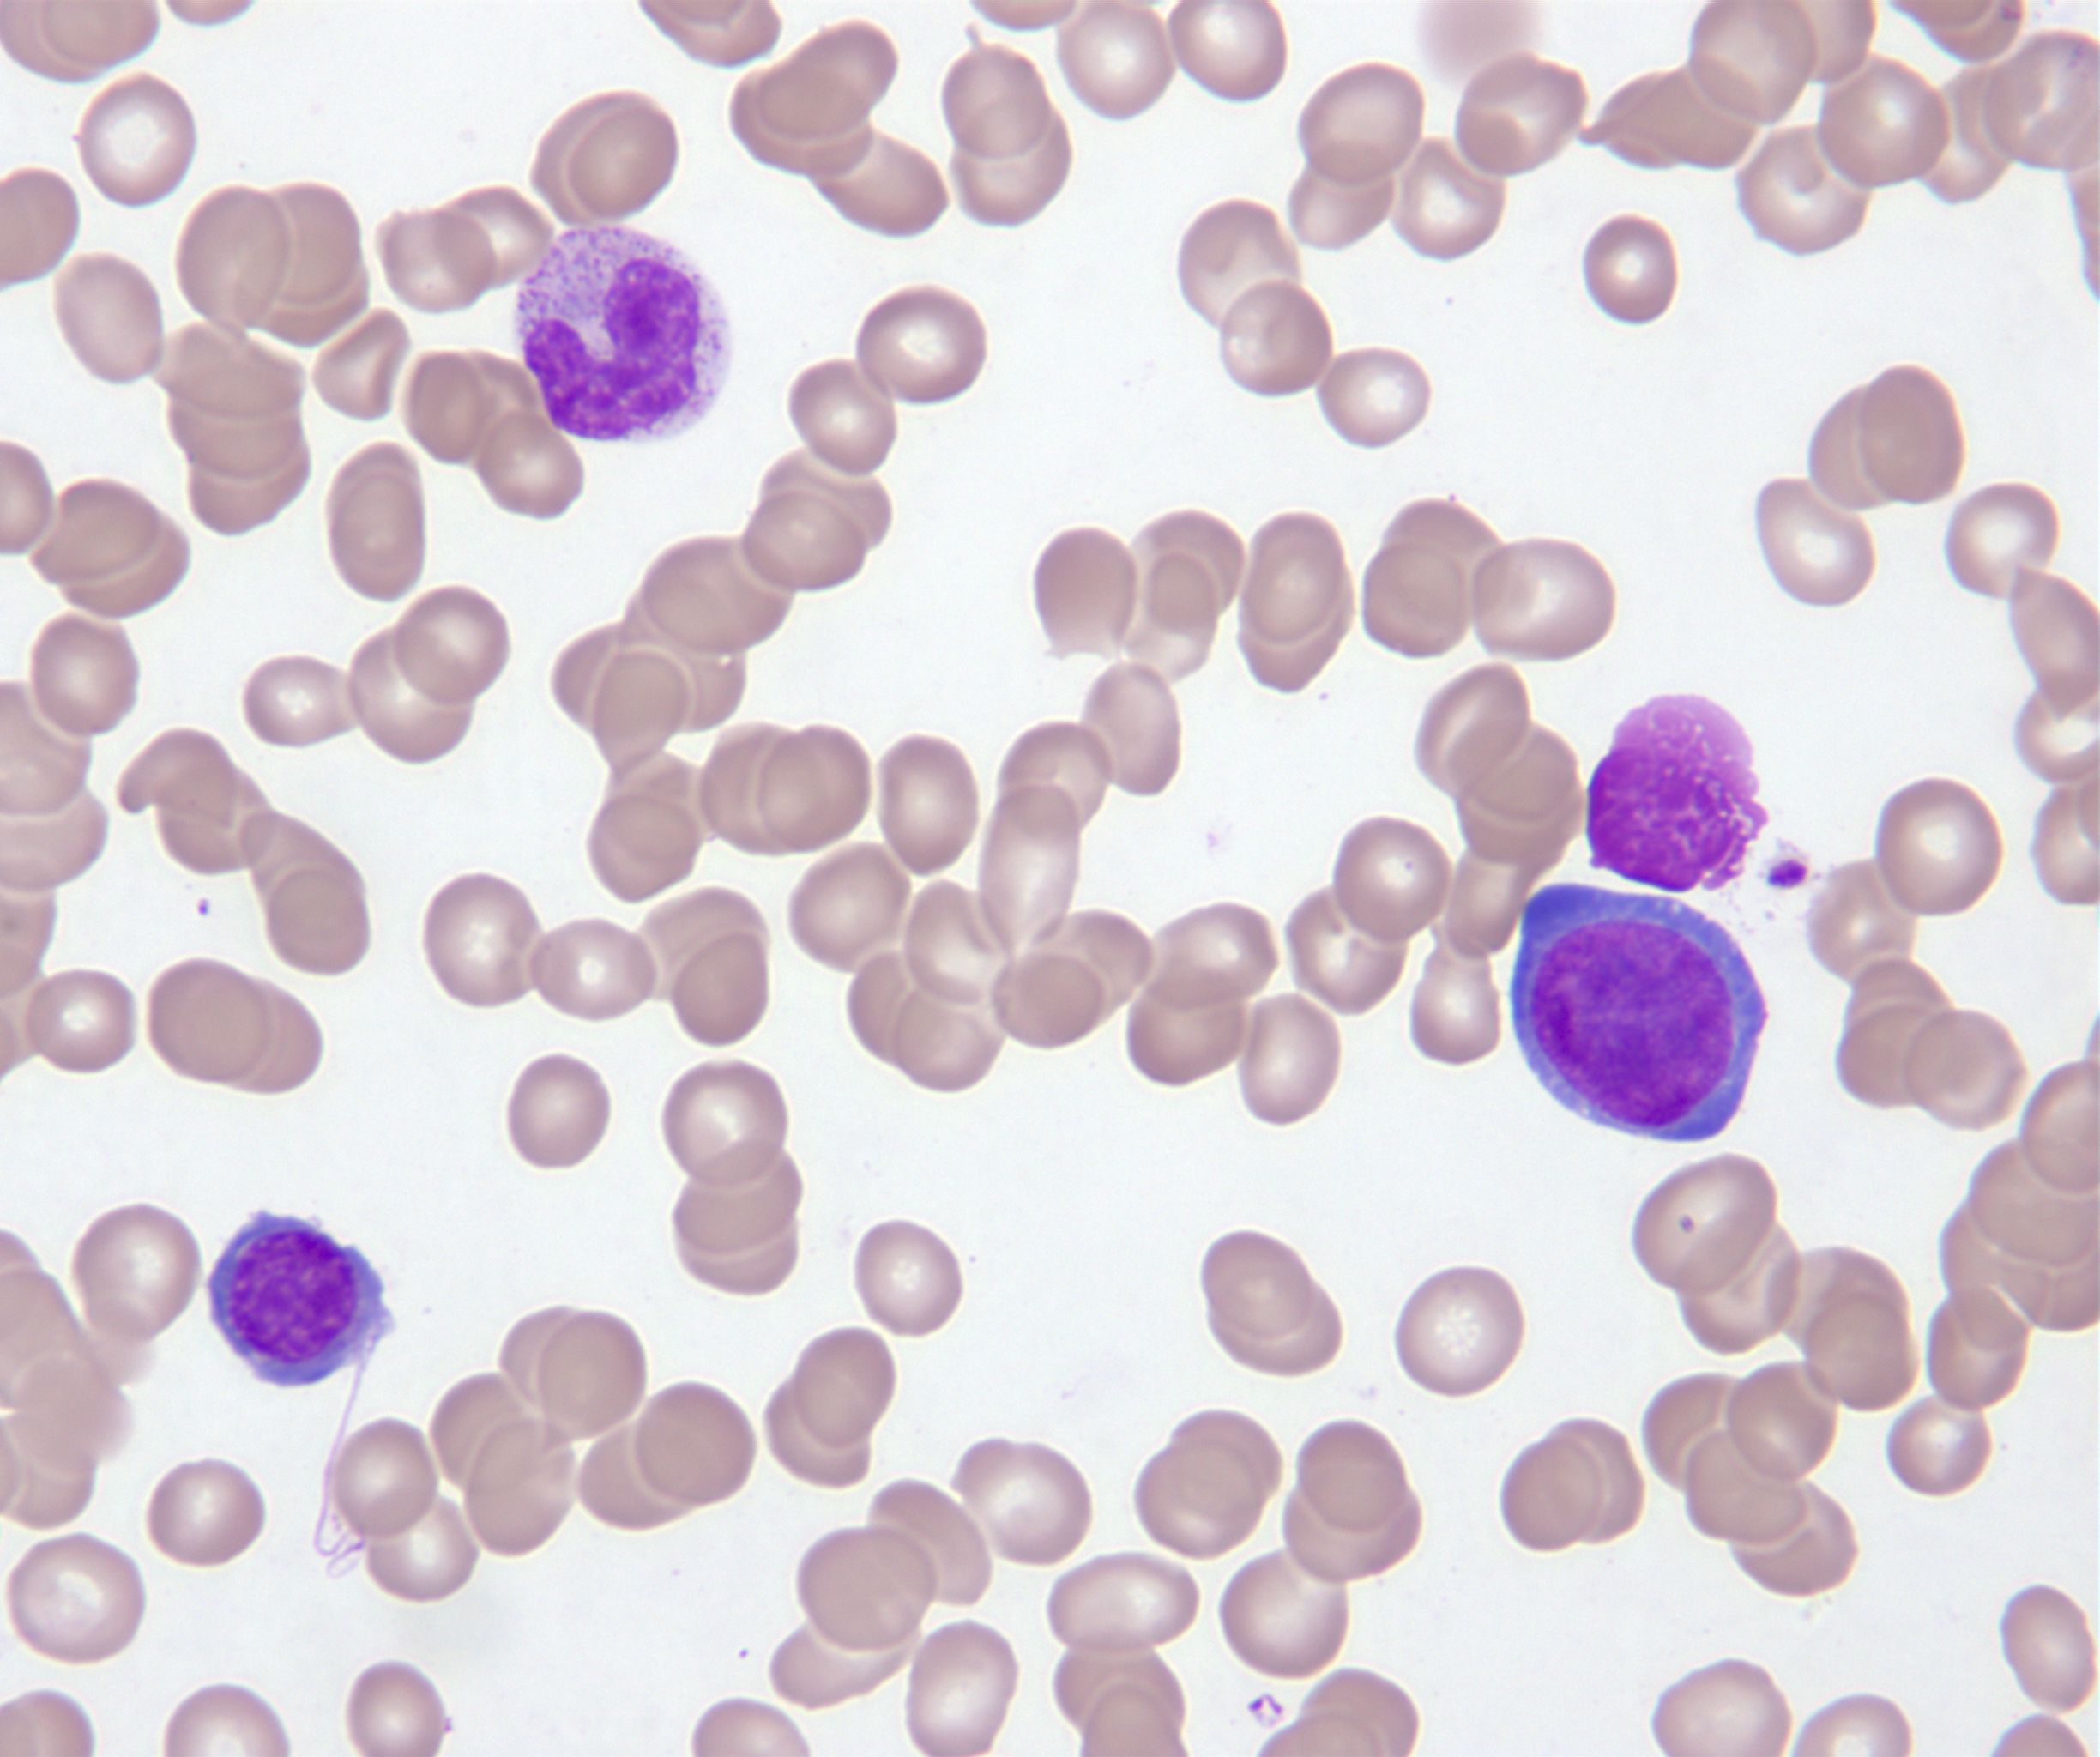22: (1512, 883, 1765, 1143)
23: (206, 1216, 396, 1389)
5: (515, 229, 731, 441)
x: (1587, 696, 1769, 895)
